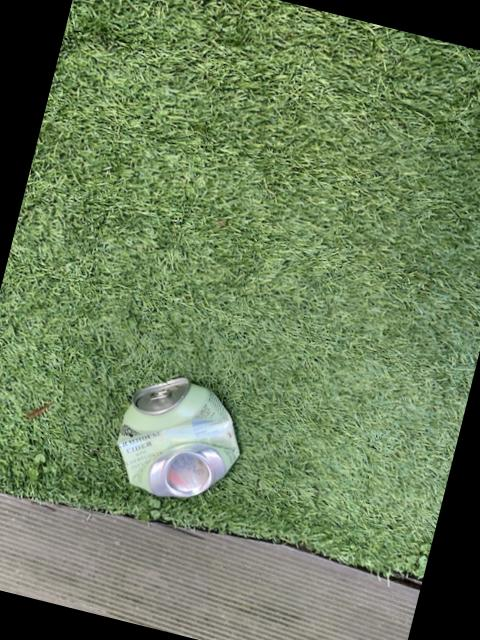metal: (119, 379, 240, 499)
